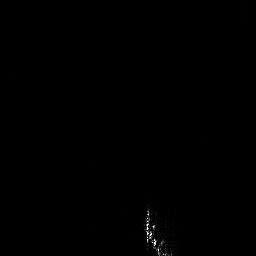ship: (142, 205, 174, 256)
